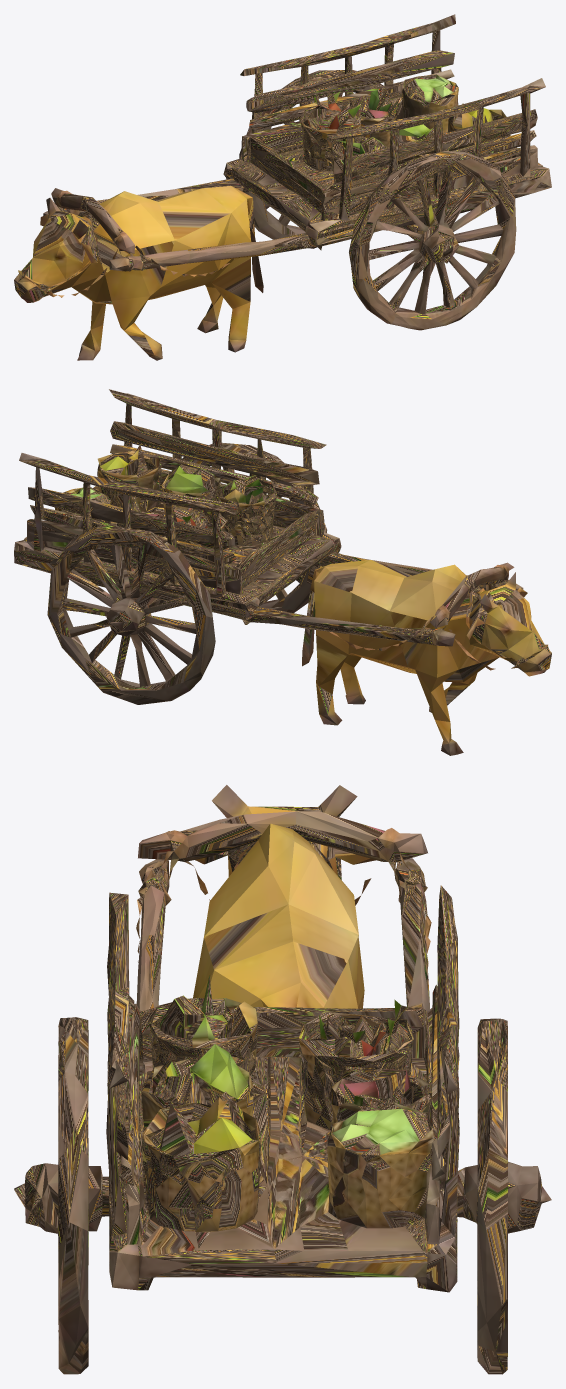
3 renders of one model, top to bottom at view 1: azimuth 30°, elevation 25°; view 2: azimuth 150°, elevation 25°; view 3: azimuth 270°, elevation 25°, orthographic. The views are drawn at different scales.
Visible parts, largest first — view 1: tripo_node_3d8f8758-ac8a-424e-9aa5-c139c53c9dc5; view 2: tripo_node_3d8f8758-ac8a-424e-9aa5-c139c53c9dc5; view 3: tripo_node_3d8f8758-ac8a-424e-9aa5-c139c53c9dc5.
Boxes of the visible parts, left/top/right/bottom form: tripo_node_3d8f8758-ac8a-424e-9aa5-c139c53c9dc5: left=14, top=14, right=551, bottom=360; tripo_node_3d8f8758-ac8a-424e-9aa5-c139c53c9dc5: left=14, top=389, right=551, bottom=755; tripo_node_3d8f8758-ac8a-424e-9aa5-c139c53c9dc5: left=14, top=785, right=551, bottom=1374.
Size of the model in its own units: 0.9738 by 0.4256 by 0.4942.
1 material, 1 textured.
